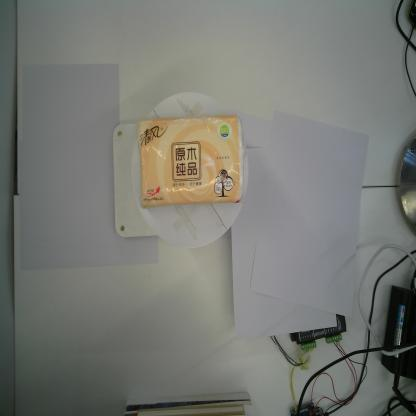Tissue: (134, 114, 245, 211)
